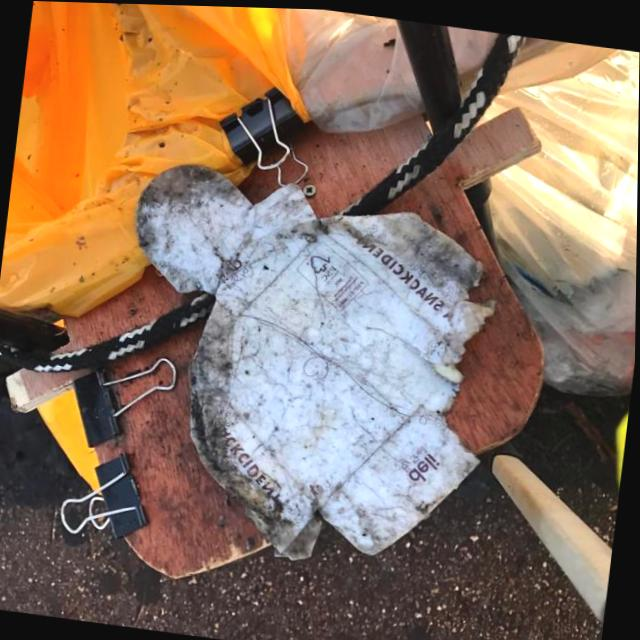Paper: (94, 149, 515, 587)
